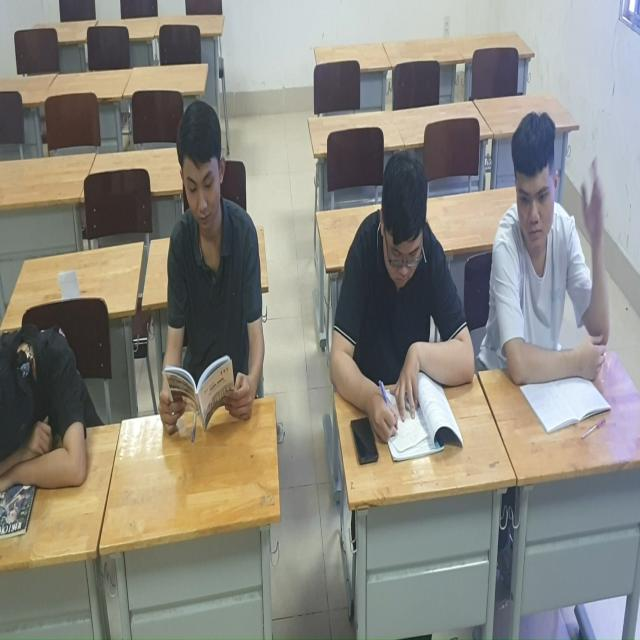raise_hand: (497, 120, 613, 427)
read: (331, 139, 491, 457), (155, 86, 283, 470)
sleep: (1, 295, 101, 524)
